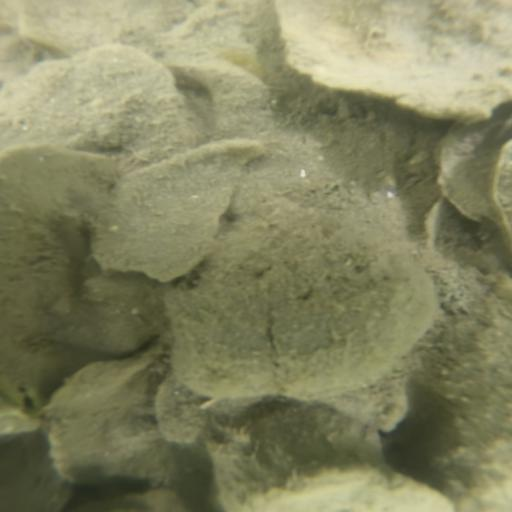Oyster-Closed: (165, 203, 441, 401), (268, 1, 512, 125), (41, 341, 206, 494), (96, 141, 264, 282), (2, 47, 201, 162), (205, 410, 397, 505), (226, 461, 460, 512), (439, 102, 512, 228), (495, 140, 512, 240)
